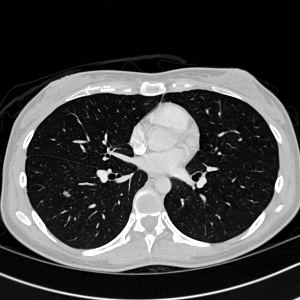nodule: (64, 191, 70, 197)
